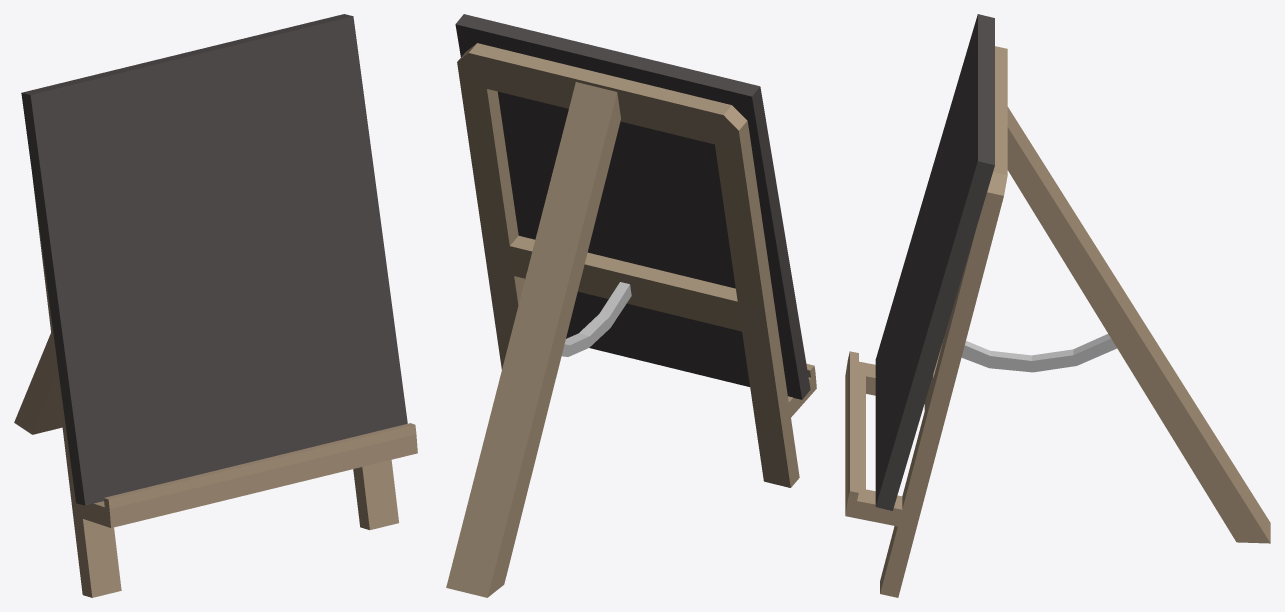
File: Cartel tipo 2.fbx
3 views of the same model, side by side, from view 1: azimuth 30°, elevation 25°; view 2: azimuth 150°, elevation 25°; view 3: azimuth 270°, elevation 25° (orthographic). The views are drawn at different scales.
Visible parts, largest first — view 1: Letrero_Dis_tiza, Caballete; view 2: Caballete, Letrero_Dis_tiza; view 3: Caballete, Letrero_Dis_tiza.
Boxes of the visible parts, box(x1,y1,x2,y2) form: Letrero_Dis_tiza: box(21, 14, 407, 505); Caballete: box(14, 176, 417, 597); Caballete: box(446, 43, 816, 597); Letrero_Dis_tiza: box(455, 14, 810, 399); Caballete: box(845, 46, 1270, 597); Letrero_Dis_tiza: box(875, 14, 994, 510).
Size of the model in its own units: 1.78 by 2.51 by 2.18.
